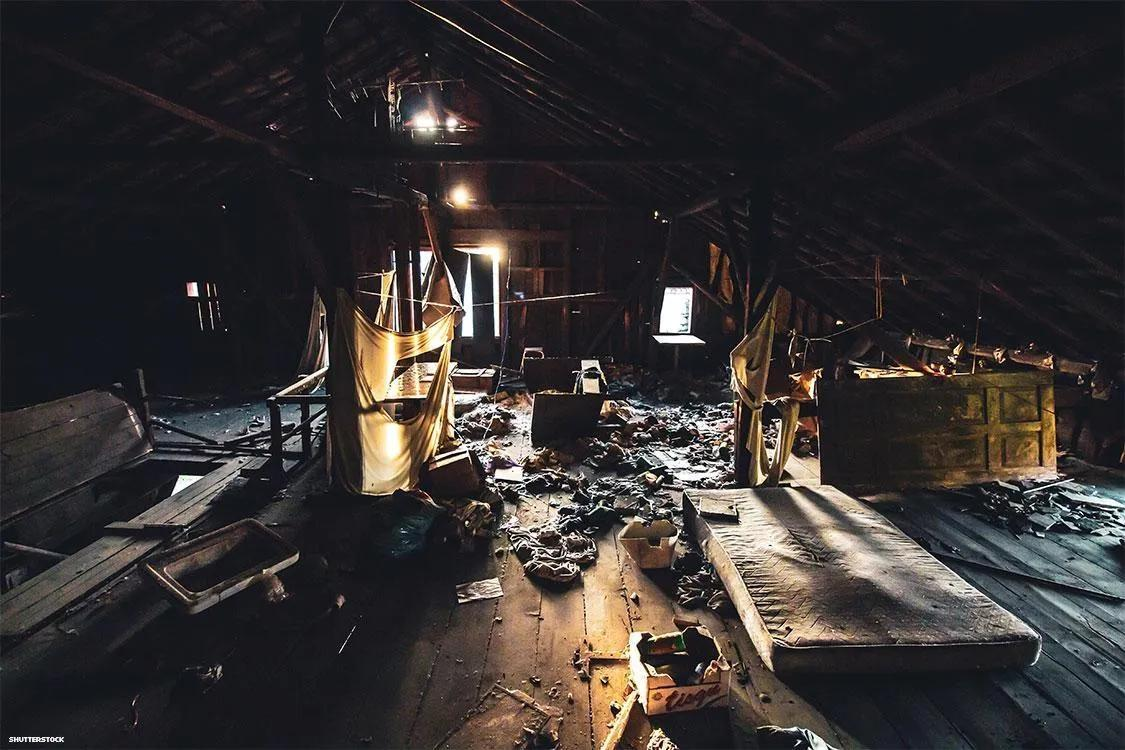Bed-Mattress: (684, 487, 1043, 674)
